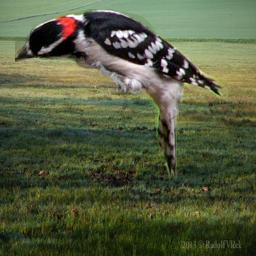Woodpecker: (15, 7, 230, 182)
